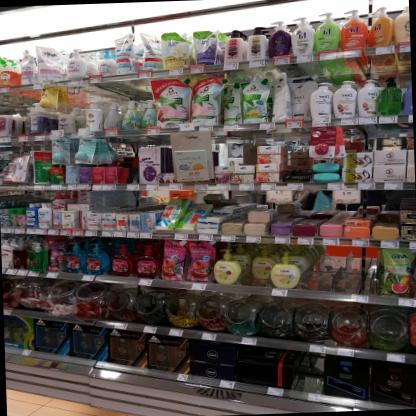empty_space: (280, 128, 311, 181), (340, 247, 369, 292), (312, 245, 336, 291)
